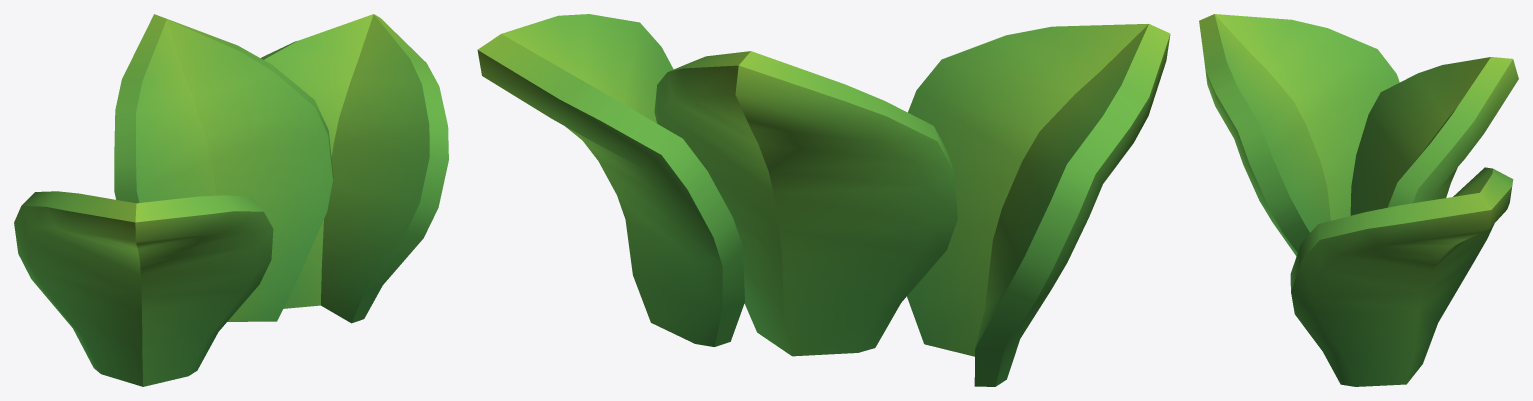
The model's file is foliage_B.fbx.
The picture shows the model from 3 angles, left to right: view 1: azimuth 30°, elevation 25°; view 2: azimuth 150°, elevation 25°; view 3: azimuth 270°, elevation 25°; orthographic projection. The views are drawn at different scales.
Parts seen in each view (by area): view 1: foliage_B; view 2: foliage_B; view 3: foliage_B.
Boxes of the visible parts, x1,y1,x2,y2 form: foliage_B: [14, 14, 448, 386]; foliage_B: [477, 14, 1170, 386]; foliage_B: [1199, 14, 1518, 386].
Bounding box in the file's own units: 0.7017 × 0.4319 × 0.4645.
